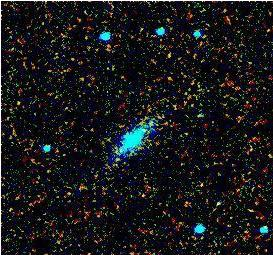star: (102, 144, 132, 174)
